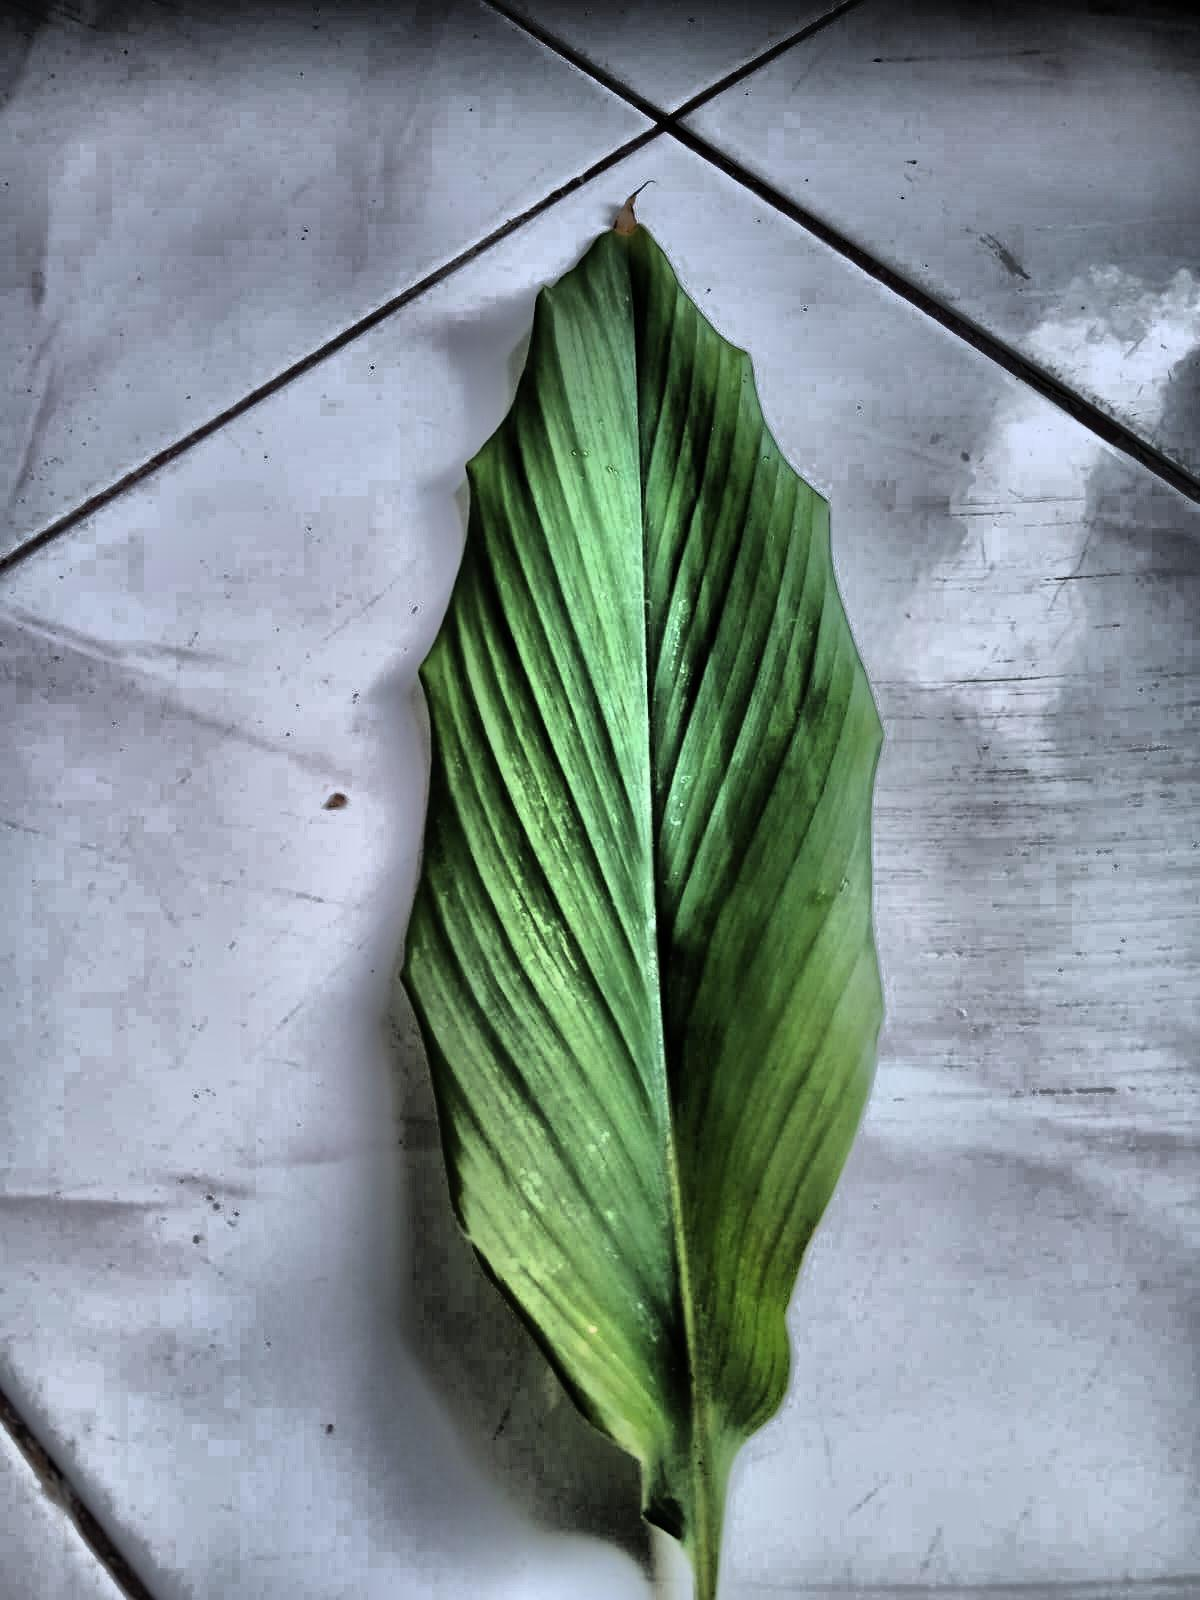daun kunyit: (403, 210, 882, 1599)
